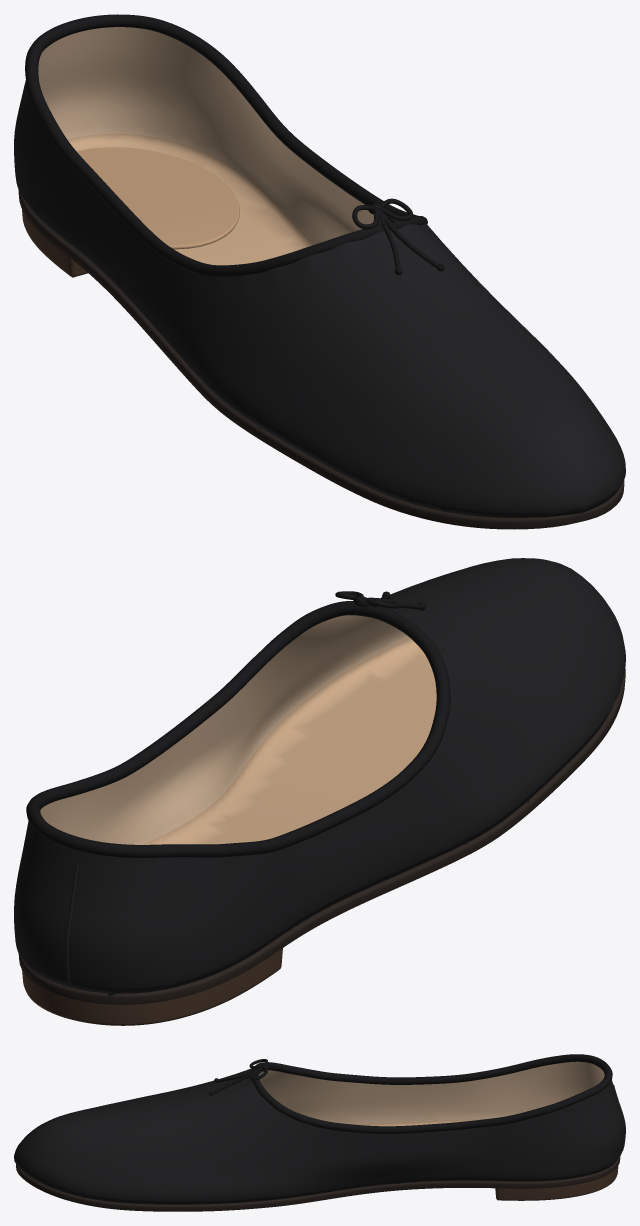
File: women_casual_b.glb
3 views of the same model, one above another, from view 1: azimuth 30°, elevation 25°; view 2: azimuth 150°, elevation 25°; view 3: azimuth 270°, elevation 25° (orthographic). The views are drawn at different scales.
Visible parts, largest first — view 1: leather_black, lining_nude, binding, insole_pad, sole_dark, insole_nude, heel_stack; view 2: leather_black, insole_nude, lining_nude, binding, sole_dark, heel_stack; view 3: leather_black, lining_nude, binding, sole_dark, heel_stack, insole_nude.
Part boxes in pixels (left/top/right/bottom): leather_black: left=14, top=80, right=625, bottom=518; lining_nude: left=38, top=27, right=373, bottom=244; binding: left=25, top=14, right=444, bottom=276; insole_pad: left=77, top=147, right=239, bottom=249; sole_dark: left=18, top=189, right=624, bottom=529; insole_nude: left=67, top=133, right=313, bottom=265; heel_stack: left=22, top=209, right=87, bottom=277; leather_black: left=14, top=558, right=625, bottom=999; insole_nude: left=143, top=637, right=436, bottom=844; lining_nude: left=40, top=615, right=409, bottom=844; binding: left=26, top=591, right=450, bottom=857; sole_dark: left=18, top=669, right=625, bottom=1004; heel_stack: left=22, top=948, right=282, bottom=1025; leather_black: left=14, top=1068, right=625, bottom=1204; lining_nude: left=258, top=1061, right=604, bottom=1124; binding: left=209, top=1054, right=612, bottom=1133; sole_dark: left=16, top=1156, right=620, bottom=1211; heel_stack: left=495, top=1166, right=618, bottom=1200; insole_nude: left=352, top=1119, right=485, bottom=1126.
Bounding box in the file's own units: 73.15 × 51.07 × 248.
